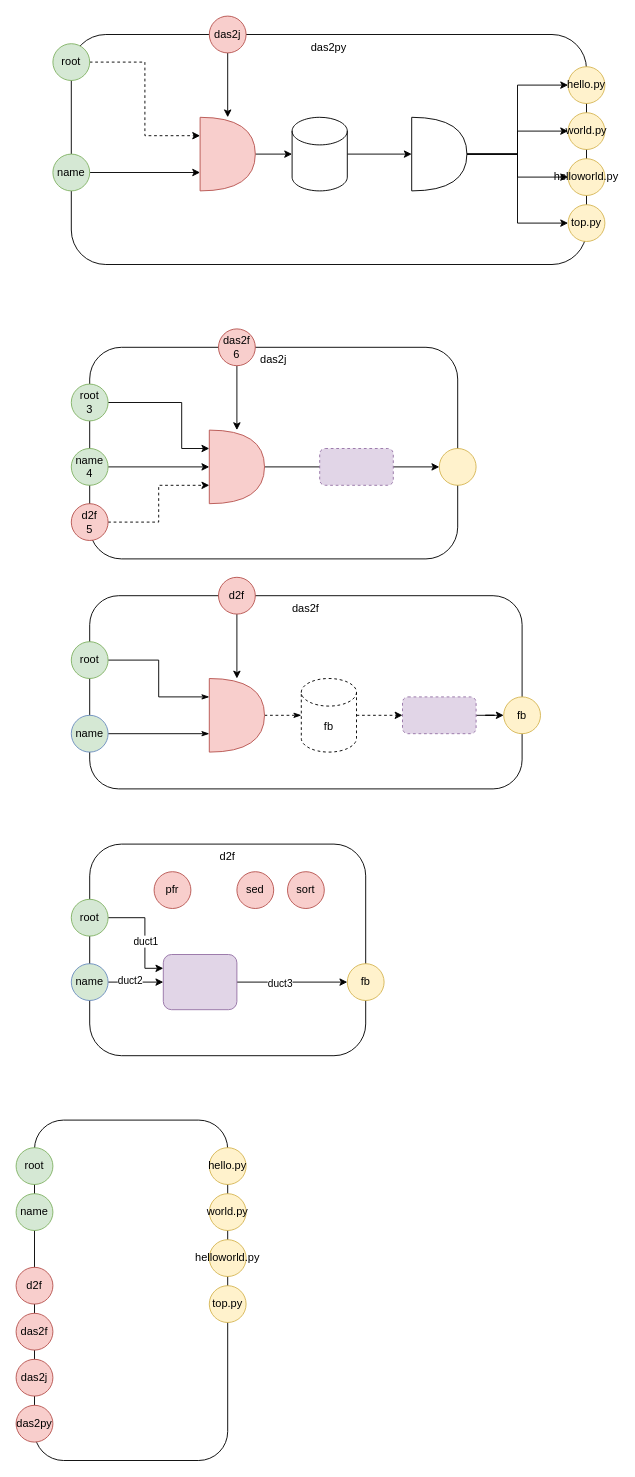
Image size: 635x1477. Some labels were removed from this diagram. Each missing label, with the box of its shape:
.json: (291, 116, 347, 191)
@d2f: (208, 678, 264, 752)
@das2f: (208, 429, 264, 504)
@das2j: (199, 116, 255, 191)
d2py: (34, 1119, 228, 1460)
emit.py: (411, 116, 467, 191)
json 7: (438, 448, 476, 485)
